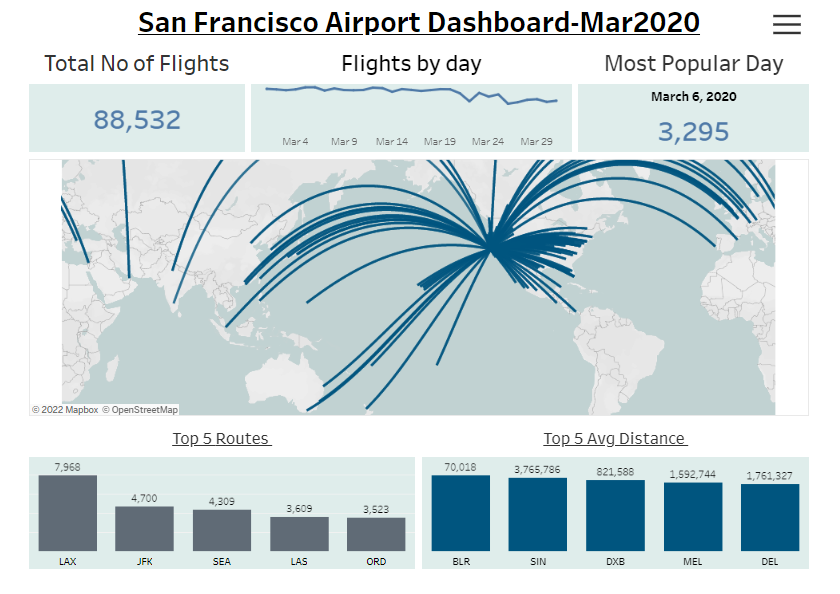

This screenshot's page, from the dashboard's own definition file:
{"tool":"tableau","page":{"name":"Dashboard 1","canvas":[1000,730],"ordinal":0},"visuals":[{"type":"text","box":[8,8,984,47]},{"type":"dashboard-object","box":[950,18,24,22]},{"type":"dashboard-object","box":[938,19,44,37]},{"type":"worksheet","title":"No of flights","mark":"Automatic","box":[8,55,278,146.1]},{"type":"worksheet","title":"Flights by day","mark":"Automatic","rows":["Date"],"cols":["Date"],"box":[286,55,409,146.1]},{"type":"worksheet","title":"Most Popular Day","mark":"Text","cols":["Date"],"box":[695,55,297,146.1]},{"type":"filter","title":"Most Popular Day","param":"[federated.1yu8a8h1y0u5i31gjrgbg1i9torz].[none:Date:ok]","box":[836,59.3,160,88]},{"type":"filter","title":"Map","param":"[federated.1yu8a8h1y0u5i31gjrgbg1i9torz].[none:Route:nk]","box":[836,147.3,160,92.6]},{"type":"worksheet","title":"Map","mark":"Multipolygon","box":[8,201.1,984,329.6]},{"type":"filter","title":"Map","param":"[federated.1yu8a8h1y0u5i31gjrgbg1i9torz].[sum:Calculation_225742999885672451:qk]","box":[836,239.9,160,32]},{"type":"worksheet","title":"Routes ","mark":"Automatic","rows":["Date"],"cols":["Calculation_225742999874277376"],"box":[8,530.7,492,191.3]},{"type":"worksheet","title":"Top - 5","mark":"Bar","rows":["Calculation_225742999885672451"],"cols":["Calculation_225742999874277376"],"box":[500,530.7,492,191.3]}]}

Visuals, with their boxes on the page's 1000x730 design canvas (x1, y1, x2, y2). These are canvas units, not pixel positions in the 840x594 screenshot, which may show the page scaled, cropped or inside an application window:
text: {"x1": 8, "y1": 8, "x2": 992, "y2": 55}
dashboard-object: {"x1": 950, "y1": 18, "x2": 974, "y2": 40}
dashboard-object: {"x1": 938, "y1": 19, "x2": 982, "y2": 56}
"No of flights" worksheet: {"x1": 8, "y1": 55, "x2": 286, "y2": 201}
"Flights by day" worksheet: {"x1": 286, "y1": 55, "x2": 695, "y2": 201}
"Most Popular Day" worksheet (Text marks): {"x1": 695, "y1": 55, "x2": 992, "y2": 201}
"Most Popular Day" filter: {"x1": 836, "y1": 59, "x2": 996, "y2": 147}
"Map" filter: {"x1": 836, "y1": 147, "x2": 996, "y2": 240}
"Map" worksheet (Multipolygon marks): {"x1": 8, "y1": 201, "x2": 992, "y2": 531}
"Map" filter: {"x1": 836, "y1": 240, "x2": 996, "y2": 272}
"Routes " worksheet: {"x1": 8, "y1": 531, "x2": 500, "y2": 722}
"Top - 5" worksheet (Bar marks): {"x1": 500, "y1": 531, "x2": 992, "y2": 722}
